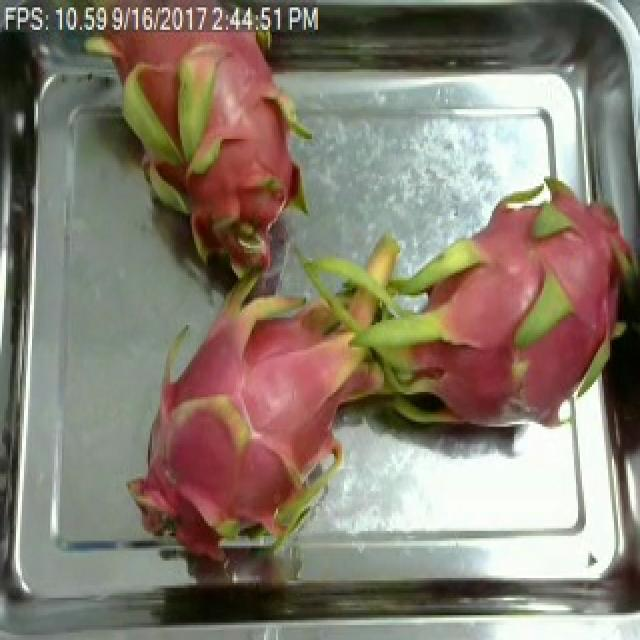Fruit: (78, 8, 256, 178)
